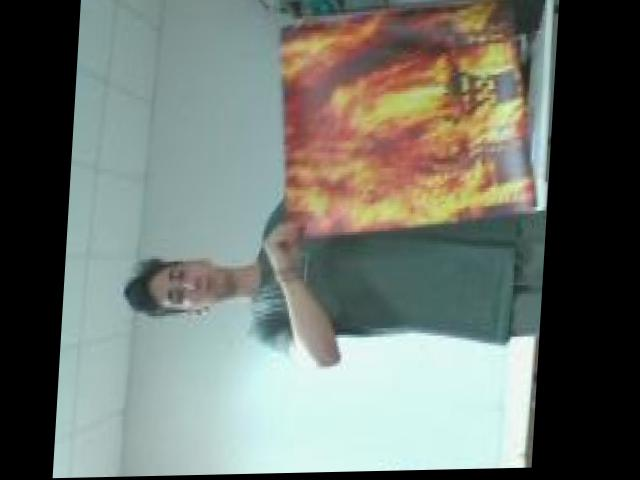fire-poster: (268, 0, 549, 247)
